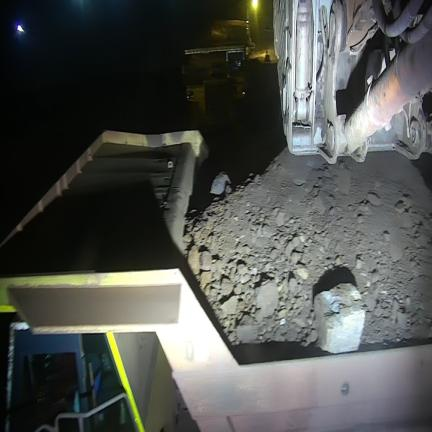pile: (176, 149, 432, 363)
